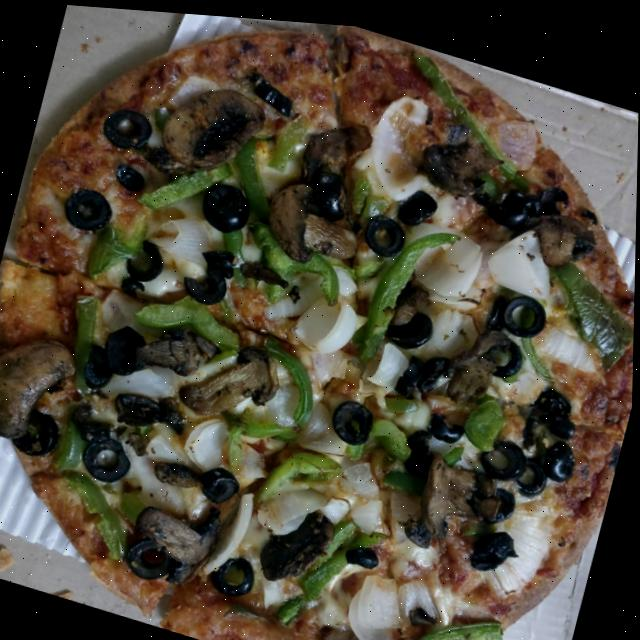black_olives: (77, 431, 136, 486), (197, 177, 253, 233), (10, 404, 65, 461), (60, 181, 116, 236), (100, 317, 149, 379), (495, 283, 552, 336), (122, 530, 179, 582), (98, 102, 155, 152), (383, 297, 438, 348), (468, 513, 518, 569), (207, 546, 260, 598), (476, 426, 528, 476), (110, 384, 165, 431), (180, 255, 230, 306), (330, 391, 378, 443), (479, 326, 528, 375), (306, 164, 351, 217), (66, 399, 114, 446), (398, 419, 438, 474), (122, 236, 167, 283), (396, 179, 440, 225), (362, 207, 406, 253), (486, 177, 530, 223), (201, 460, 243, 506), (82, 340, 119, 390), (418, 345, 456, 393), (542, 428, 580, 476), (249, 75, 295, 111), (392, 347, 426, 395), (513, 448, 552, 489), (426, 403, 467, 439), (534, 174, 570, 212), (198, 241, 238, 275), (489, 480, 521, 521), (533, 378, 573, 408), (538, 401, 578, 431), (346, 536, 382, 564), (113, 162, 147, 190), (120, 277, 145, 296), (267, 631, 318, 640)
mushrooms: (154, 70, 267, 183), (254, 167, 368, 274), (175, 327, 284, 431), (0, 321, 80, 451), (125, 486, 225, 588), (414, 442, 508, 546), (257, 491, 340, 592), (292, 106, 375, 200), (416, 122, 504, 197), (127, 311, 215, 382), (521, 197, 598, 267), (446, 313, 511, 374), (446, 342, 494, 401), (315, 614, 401, 640), (153, 455, 206, 490), (400, 511, 435, 542)
pizza: (0, 0, 640, 640)
